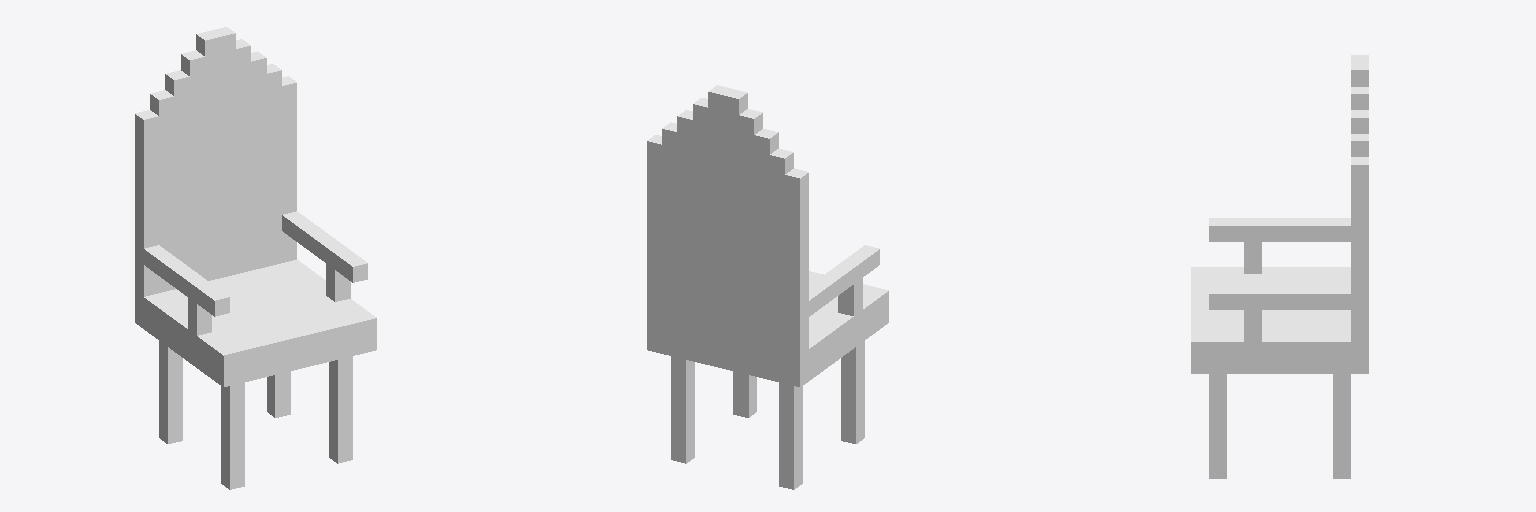
File: armchair.obj
The picture shows the model from 3 angles: view 1: azimuth 30°, elevation 25°; view 2: azimuth 150°, elevation 25°; view 3: azimuth 270°, elevation 25°; orthographic projection.
Parts seen in each view (by area): view 1: armchair; view 2: armchair; view 3: armchair.
Boxes of the visible parts, x1=… form: armchair: x1=135, y1=27, x2=376, y2=489; armchair: x1=647, y1=85, x2=888, y2=489; armchair: x1=1191, y1=55, x2=1368, y2=478.
Size of the model in its own units: 12.9 by 30.95 by 12.9.